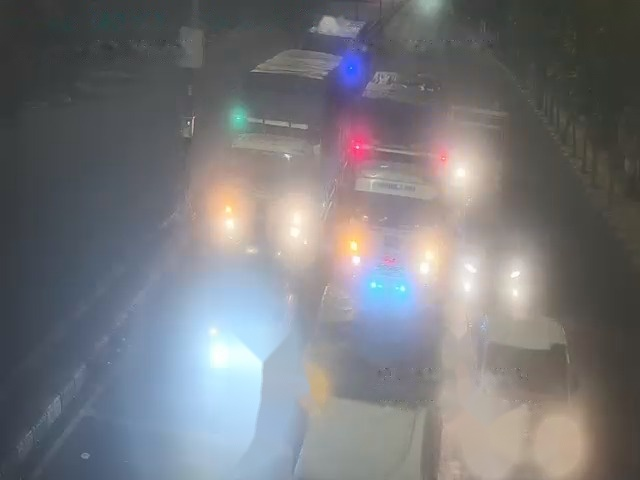Mobil: (472, 313, 576, 463), (457, 194, 520, 303)
Truk: (227, 44, 341, 263), (348, 73, 438, 284), (442, 91, 505, 190)
